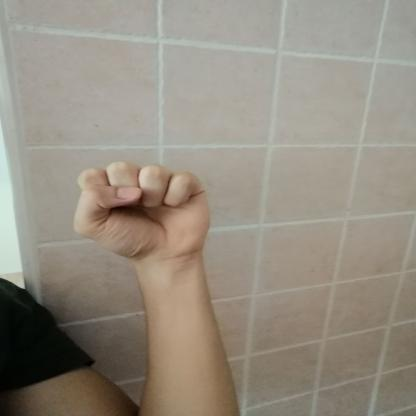SAD: (55, 151, 226, 269)
